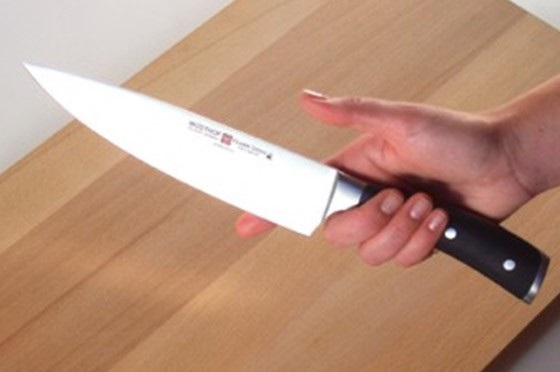knife: (15, 53, 377, 265)
